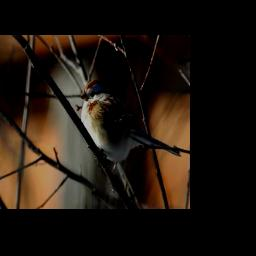Sparrow: (80, 78, 183, 170)
